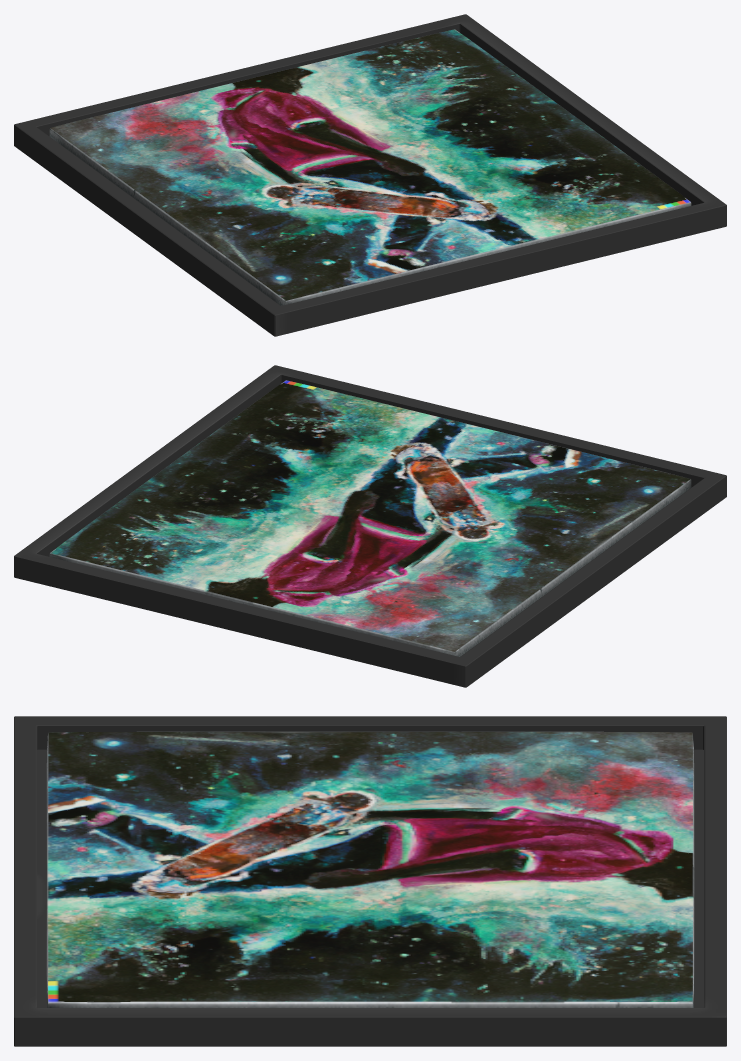
File: GG_Level1_Asset_CafeArt2_002.fbx
3 renders of one model, top to bottom at view 1: azimuth 30°, elevation 25°; view 2: azimuth 150°, elevation 25°; view 3: azimuth 270°, elevation 25°, orthographic. The views are drawn at different scales.
Visible parts, largest first — view 1: Original_frame1_cafe; view 2: Original_frame1_cafe; view 3: Original_frame1_cafe.
Boxes of the visible parts, bbox=[...] form: Original_frame1_cafe: bbox=[14, 14, 726, 336]; Original_frame1_cafe: bbox=[14, 365, 726, 687]; Original_frame1_cafe: bbox=[14, 716, 726, 1046].
Bounding box in the file's own units: 738 × 35.17 × 738.
1 material, 1 textured.
